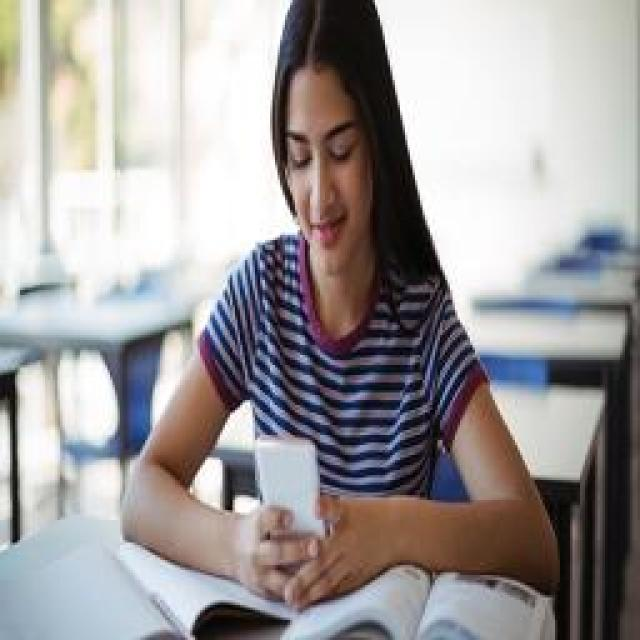phone: (120, 0, 560, 600)
